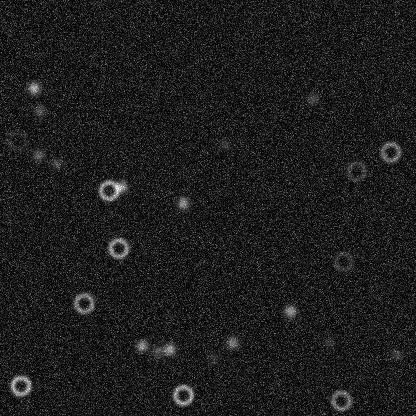Ring: (5, 128, 29, 152), (171, 383, 195, 407), (329, 388, 353, 412), (344, 159, 368, 183), (378, 140, 402, 164), (8, 373, 32, 397), (106, 236, 130, 260), (71, 291, 95, 315), (330, 249, 354, 273), (96, 178, 120, 202)
Spot: (113, 178, 129, 194), (161, 341, 177, 357), (224, 334, 240, 350), (25, 79, 41, 95), (216, 136, 232, 152), (175, 194, 191, 210), (282, 302, 298, 318), (149, 342, 165, 358), (304, 90, 320, 106), (133, 337, 149, 353), (30, 146, 46, 162), (204, 349, 220, 365), (387, 346, 403, 362), (32, 102, 48, 118), (48, 155, 64, 171), (321, 333, 337, 349)
